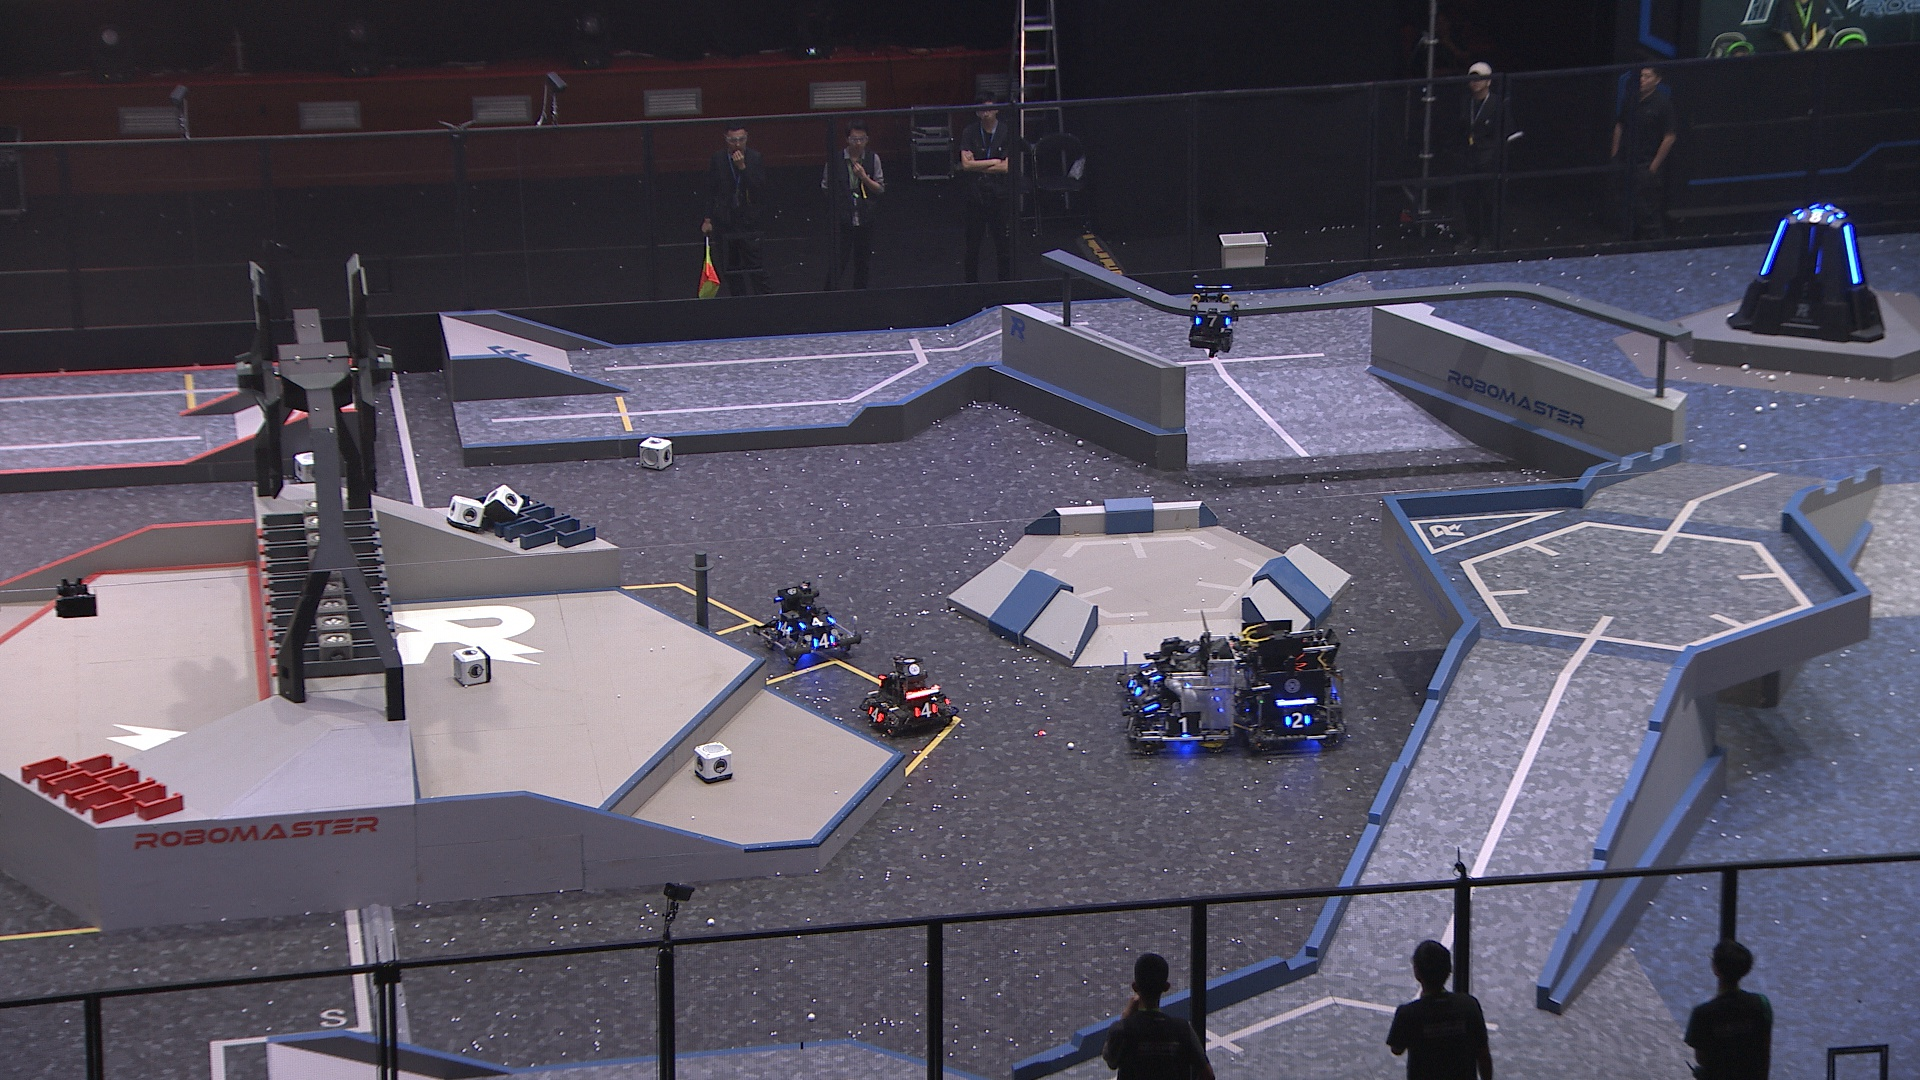armor: (1759, 219, 1785, 277), (1841, 225, 1859, 286), (1166, 713, 1201, 736), (1799, 207, 1836, 225), (1191, 313, 1232, 328), (913, 700, 939, 721), (799, 613, 835, 628), (1135, 662, 1160, 680), (1120, 713, 1135, 741), (1125, 678, 1141, 700), (808, 636, 837, 647), (866, 705, 884, 725), (774, 621, 795, 637)
base: (1727, 200, 1888, 345)
car: (1116, 637, 1249, 760), (1233, 617, 1342, 757), (750, 582, 864, 669), (1116, 632, 1220, 711), (865, 655, 953, 738)
watcher: (1185, 280, 1240, 356)
